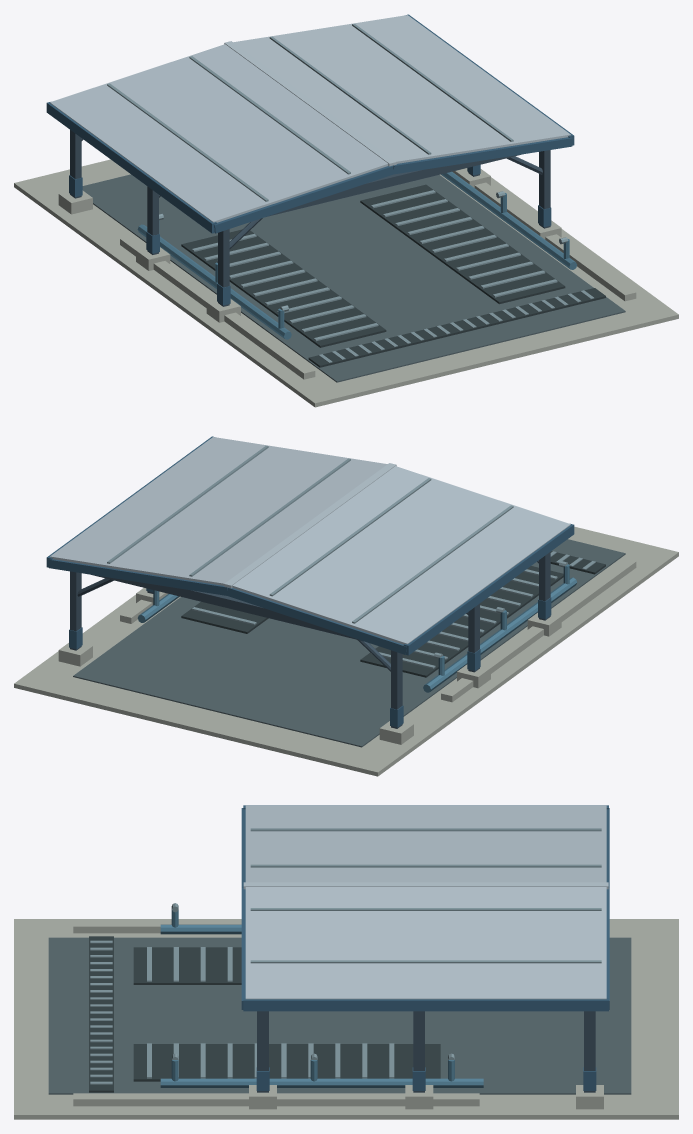
The model's file is wash-station-l1.glb.
3 renders of one model, top to bottom at view 1: azimuth 30°, elevation 25°; view 2: azimuth 150°, elevation 25°; view 3: azimuth 270°, elevation 25°, orthographic. The views are drawn at different scales.
Visible parts, largest first — view 1: Roof, Wet slab, Concrete, Grating, Louvres, Fascia, Steel, Pipe; view 2: Roof, Wet slab, Concrete, Fascia, Grating, Louvres, Steel, Pipe; view 3: Roof, Wet slab, Concrete, Grating, Louvres, Fascia, Pipe, Steel.
Boxes of the visible parts, x1,y1,x2,y2 form: Roof: (50,15,570,222); Wet slab: (82,174,625,382); Concrete: (14,159,678,407); Grating: (181,184,605,367); Louvres: (107,23,593,362); Fascia: (46,14,574,305); Steel: (70,130,550,306); Pipe: (137,171,576,339); Roof: (50,437,570,644); Wet slab: (73,539,625,747); Concrete: (14,526,678,776); Fascia: (46,436,574,727); Grating: (181,551,605,677); Louvres: (107,445,595,668); Steel: (70,552,550,728); Pipe: (137,564,577,692); Roof: (243,805,608,999); Wet slab: (48,937,631,1094); Concrete: (14,919,678,1119); Grating: (89,936,440,1092); Louvres: (90,828,601,1084); Fascia: (241,805,609,1090); Pipe: (160,906,483,1087); Steel: (257,1011,595,1092).
Bounding box in the file's own units: 8.62 × 2.81 × 12.35.
